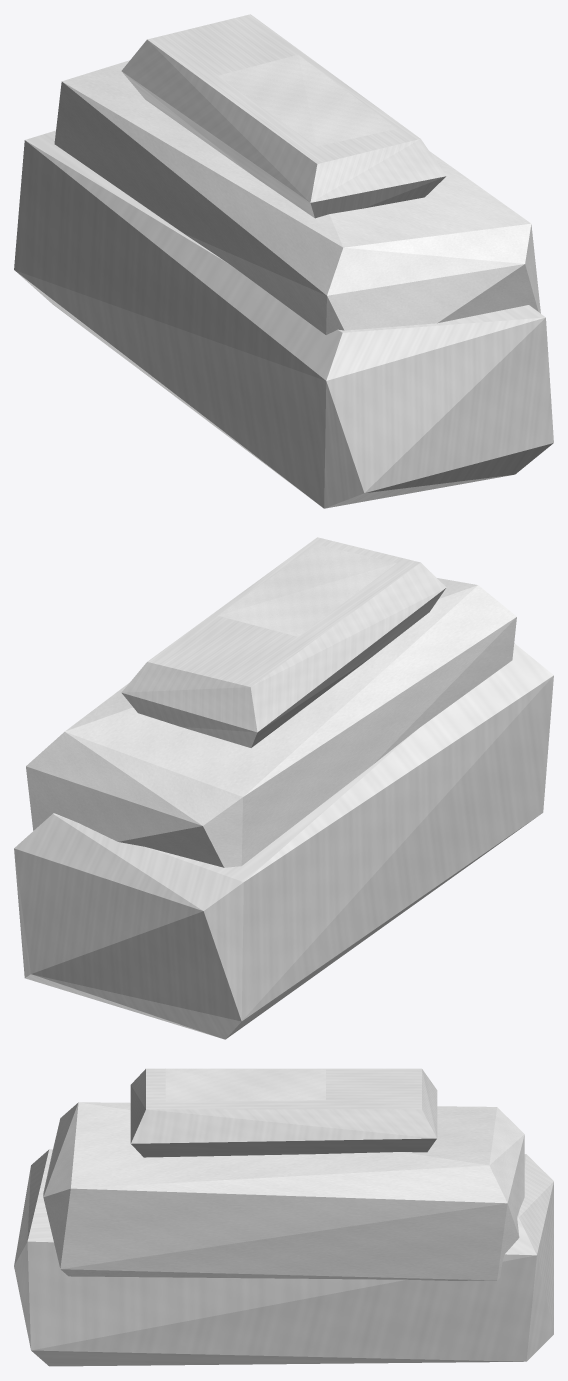
Rendered from Field_Medic_Forearm_Guard_L_Scanner_LOD2.glb.
3 views of the same model, one above another, from view 1: azimuth 30°, elevation 25°; view 2: azimuth 150°, elevation 25°; view 3: azimuth 270°, elevation 25° (orthographic). The views are drawn at different scales.
Parts seen in each view (by area): view 1: Field_Medic_Forearm_Guard_L_Scanner_LOD2; view 2: Field_Medic_Forearm_Guard_L_Scanner_LOD2; view 3: Field_Medic_Forearm_Guard_L_Scanner_LOD2.
Boxes of the visible parts, left/top/right/bottom form: Field_Medic_Forearm_Guard_L_Scanner_LOD2: left=14, top=14, right=553, bottom=508; Field_Medic_Forearm_Guard_L_Scanner_LOD2: left=14, top=537, right=553, bottom=1039; Field_Medic_Forearm_Guard_L_Scanner_LOD2: left=14, top=1068, right=553, bottom=1366.
Bounding box in the file's own units: 0.0746 × 0.0932 × 0.184.
Materials: 3 (3 with a texture image).
